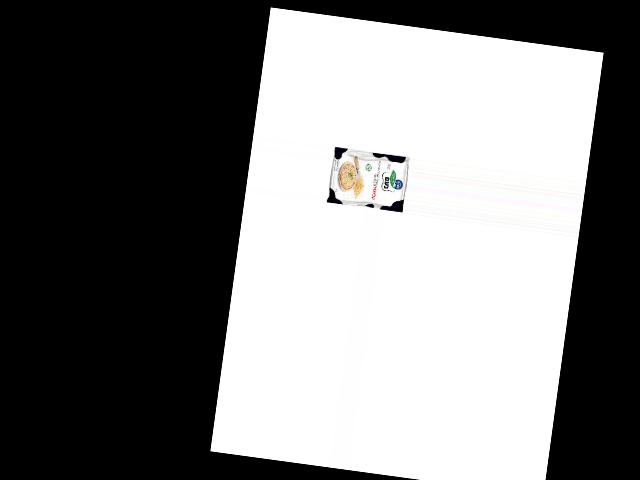cheese: (325, 145, 410, 214)
